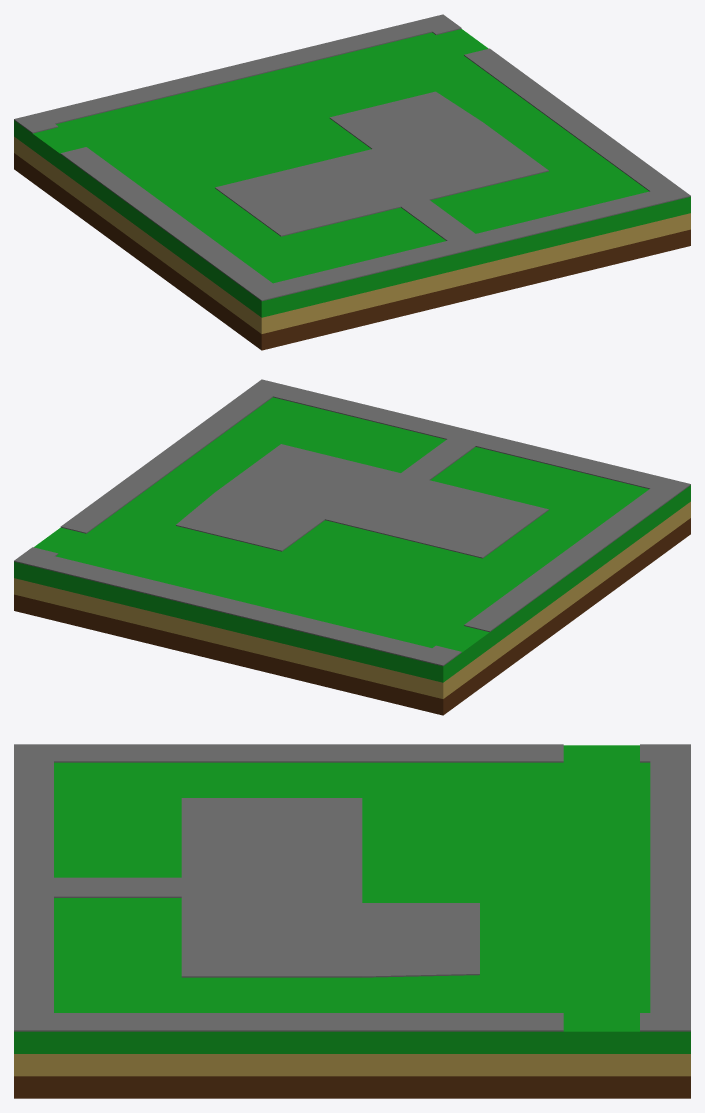
The model's file is Chia-Station-HitBox.glb.
3 views of the same model, one above another, from view 1: azimuth 30°, elevation 25°; view 2: azimuth 150°, elevation 25°; view 3: azimuth 270°, elevation 25° (orthographic). The views are drawn at different scales.
Parts seen in each view (by area): view 1: Plane.016, Plane.017; view 2: Plane.016, Plane.017; view 3: Plane.016, Plane.017.
Boxes of the visible parts, x1=… form: Plane.016: x1=14, y1=29, x2=690, y2=350; Plane.017: x1=14, y1=14, x2=690, y2=301; Plane.016: x1=14, y1=397, x2=690, y2=715; Plane.017: x1=14, y1=379, x2=690, y2=666; Plane.016: x1=14, y1=745, x2=690, y2=1098; Plane.017: x1=14, y1=744, x2=690, y2=1031.
Size of what is drawn, in the model's own units: 33.35 by 3.73 by 33.35.
